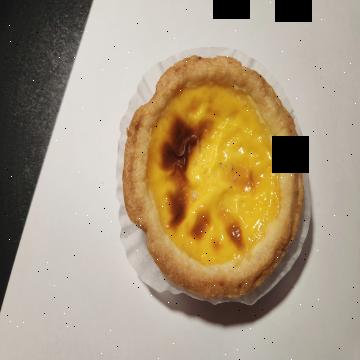EggTart: (123, 56, 301, 298)
